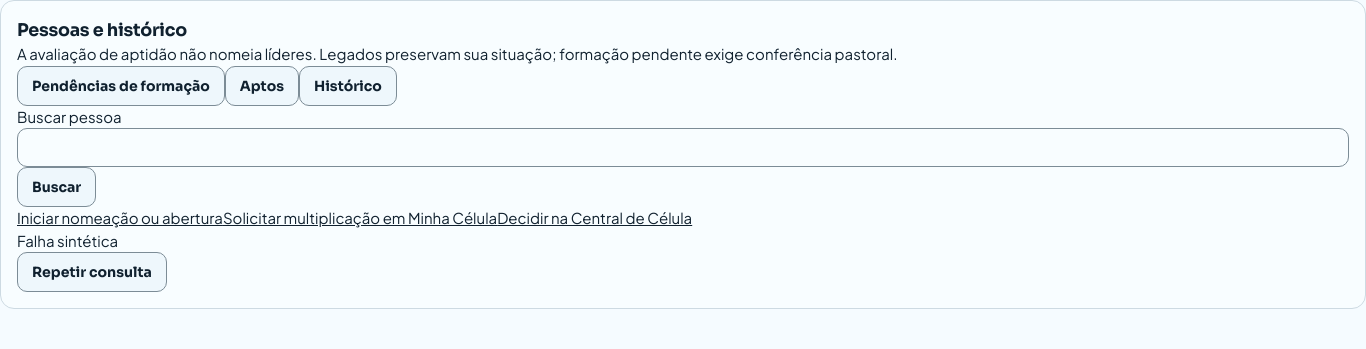
Test case: falha de leitura não mostra estado vazio; permite repetir e mostra vazio real
expect the message "Falha sintética Repetir consulta" is shown: met, box [17,231,167,292]
expect the text "Nenhuma pessoa neste filtro." is not shown: met
Click the button "Repetir consulta": (92, 272) [17,252,167,292]
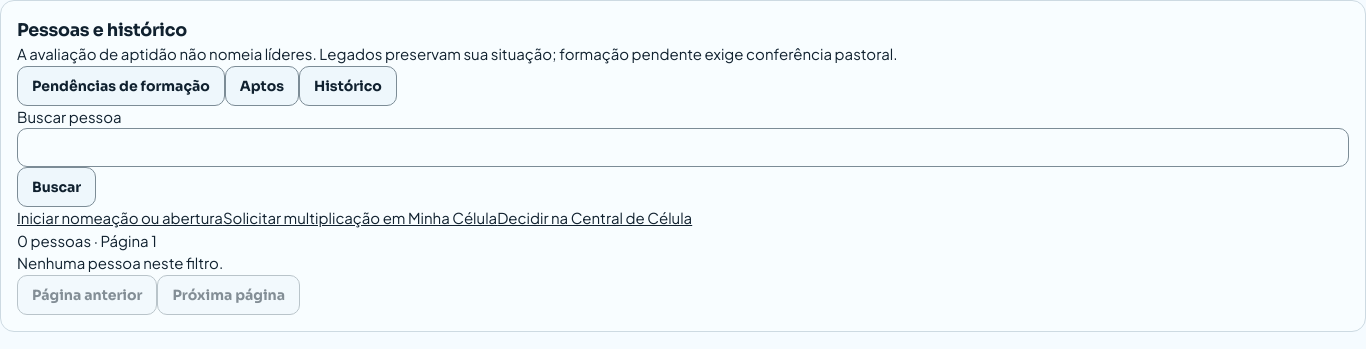
expect the text "Nenhuma pessoa neste filtro." is shown: met, box [17,253,223,272]
